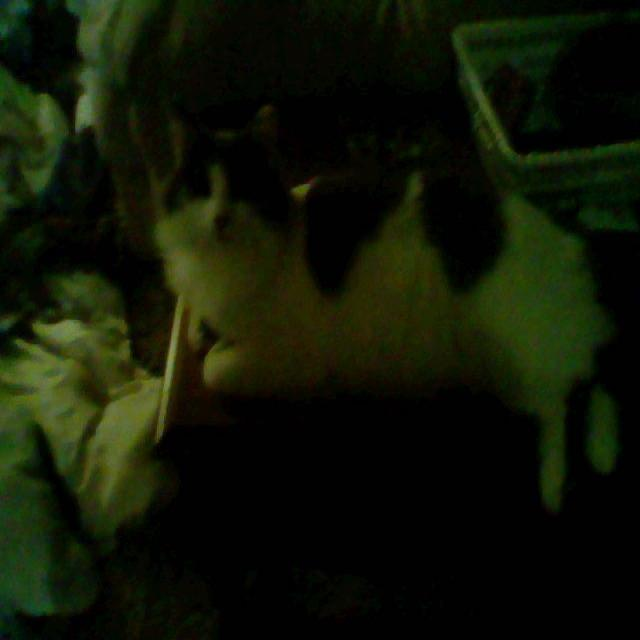Cat: (136, 86, 640, 582)
